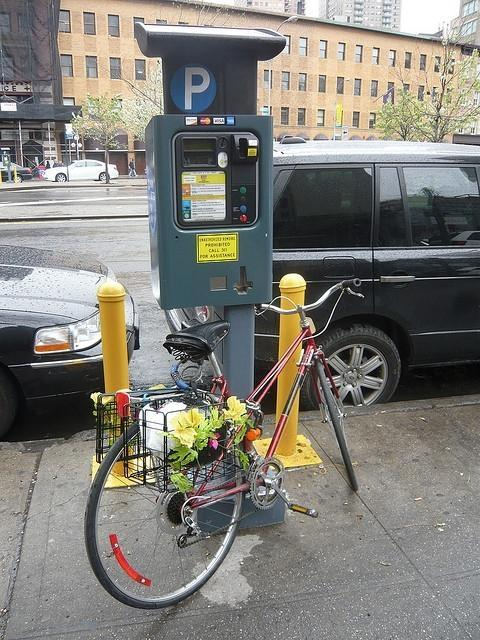bicycle: (84, 278, 364, 606)
car: (263, 145, 480, 411), (0, 232, 144, 422), (41, 159, 120, 183), (0, 162, 33, 183)
